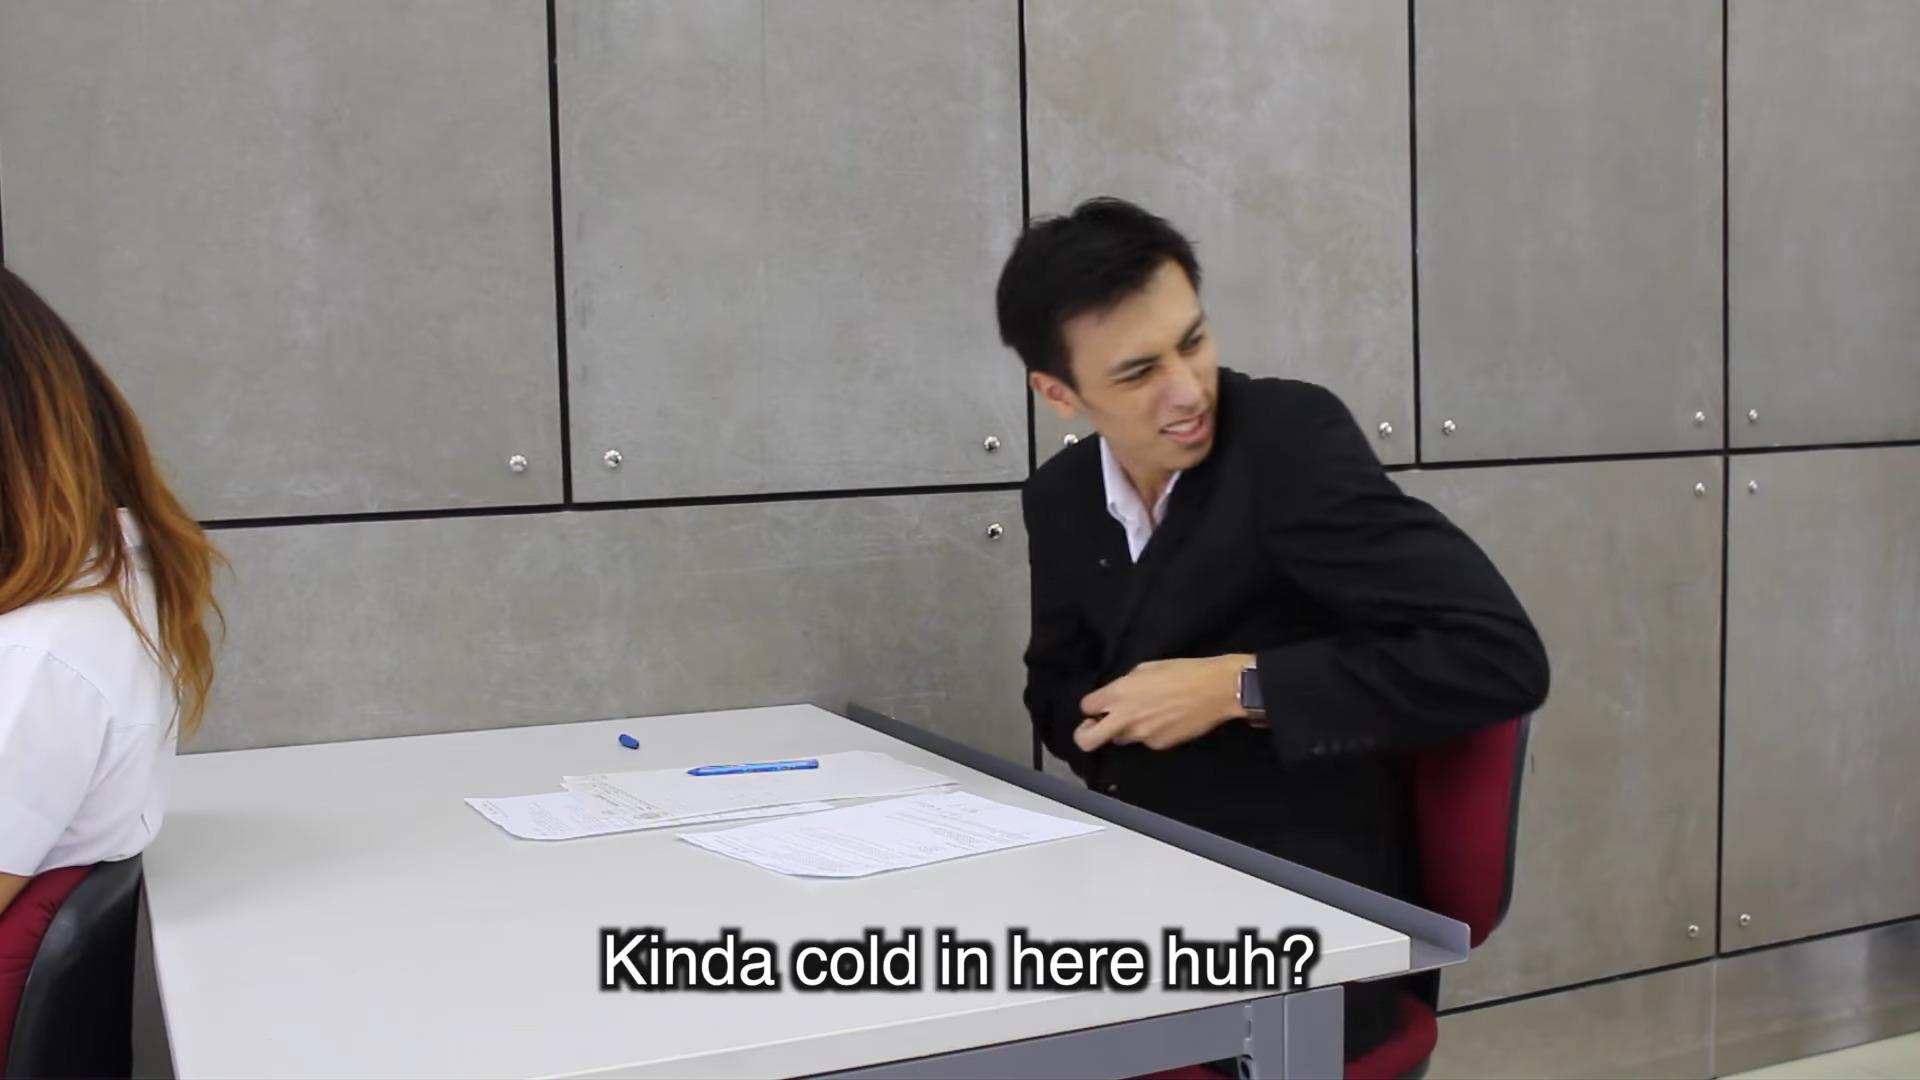cheating: (451, 131, 1571, 902)
